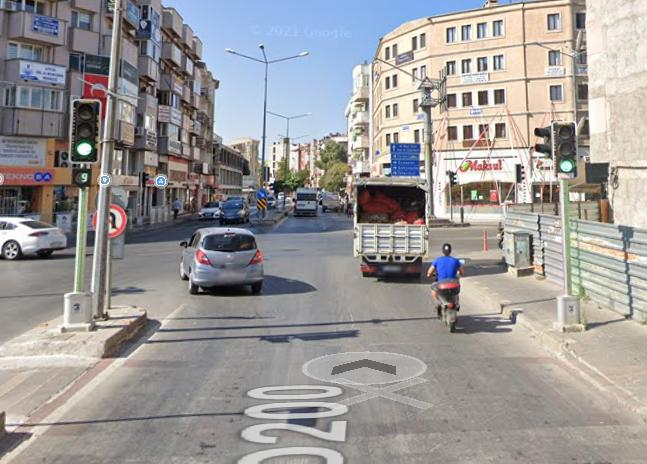greenlight: (74, 100, 95, 160), (553, 122, 577, 173)
